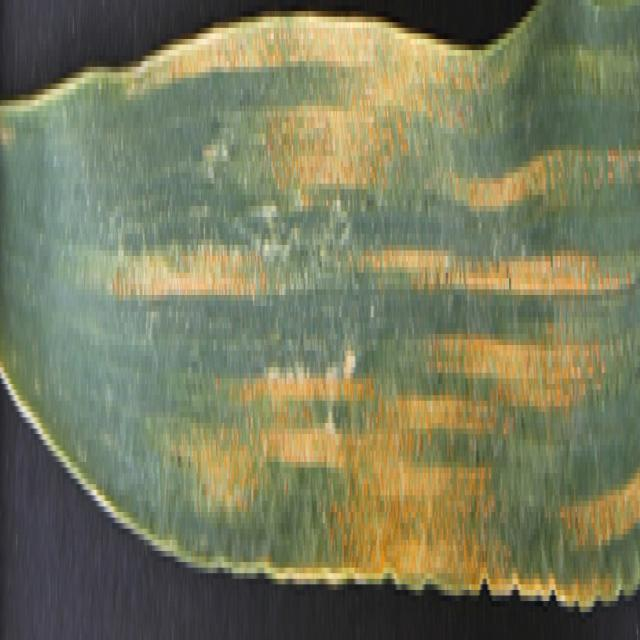leaf rust: (110, 5, 638, 590)
